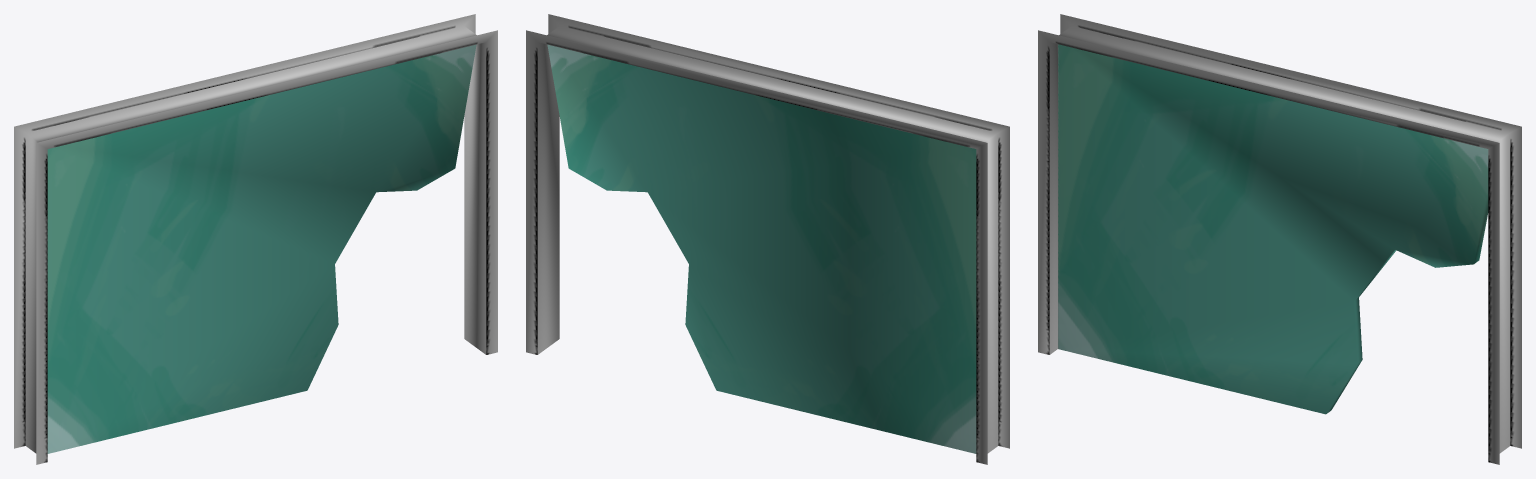
Rendered from GroundModuleGlassBroken.fbx.
The picture shows the model from 3 angles, left to right: view 1: azimuth 30°, elevation 25°; view 2: azimuth 150°, elevation 25°; view 3: azimuth 330°, elevation 25°; orthographic projection.
Visible parts, largest first — view 1: GroundModuleGlassBroken_low; view 2: GroundModuleGlassBroken_low; view 3: GroundModuleGlassBroken_low.
Boxes of the visible parts, x1=… form: GroundModuleGlassBroken_low: x1=14, y1=14, x2=497, y2=464; GroundModuleGlassBroken_low: x1=526, y1=14, x2=1009, y2=464; GroundModuleGlassBroken_low: x1=1038, y1=14, x2=1521, y2=464.
Bounding box in the file's own units: 6 × 4 × 0.5.
